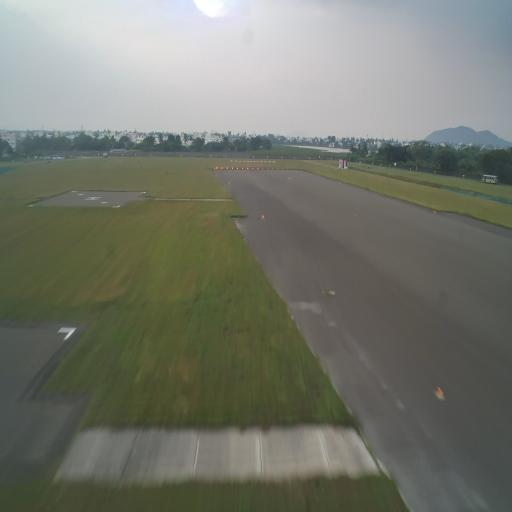off: (328, 286, 336, 302)
on: (435, 381, 446, 402), (434, 209, 436, 216), (262, 214, 264, 220), (228, 181, 230, 186), (216, 167, 218, 170), (252, 167, 254, 170), (257, 167, 259, 170), (262, 167, 264, 170), (267, 167, 269, 170), (338, 181, 340, 184), (214, 168, 216, 170), (221, 167, 223, 169), (227, 166, 228, 170), (232, 166, 233, 170), (237, 166, 238, 170), (247, 167, 248, 170), (277, 167, 278, 170), (242, 167, 243, 169), (272, 168, 273, 170), (282, 168, 283, 170)
